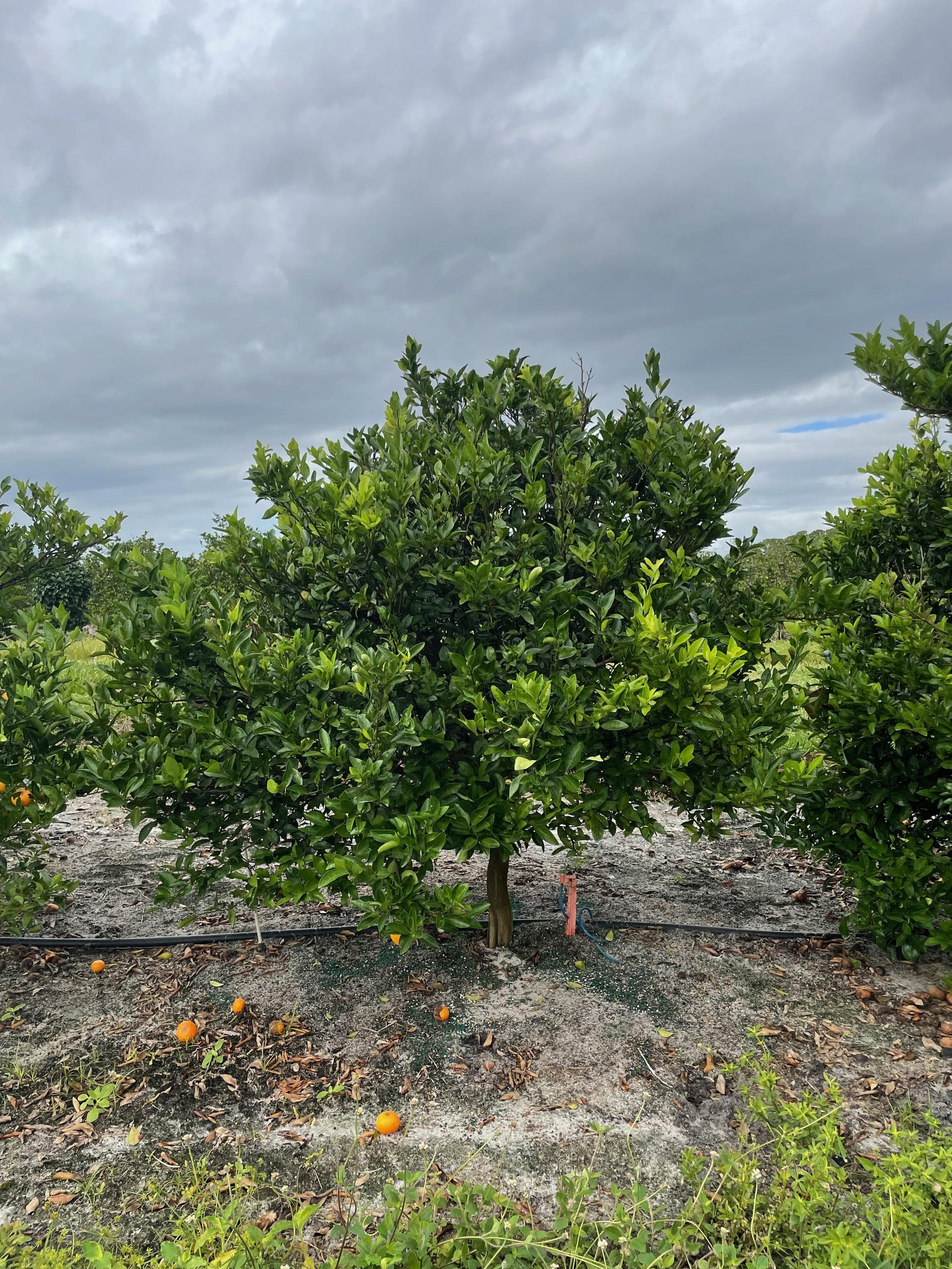fruit_on_ground: (9, 785, 36, 810), (387, 927, 411, 948), (0, 779, 8, 796)
fruit_on_tree: (46, 1180, 80, 1206), (374, 1107, 403, 1137), (173, 1017, 200, 1045), (431, 1002, 452, 1023), (229, 995, 249, 1016), (266, 1017, 286, 1037), (88, 957, 107, 974), (927, 985, 947, 1001), (43, 901, 62, 916)
